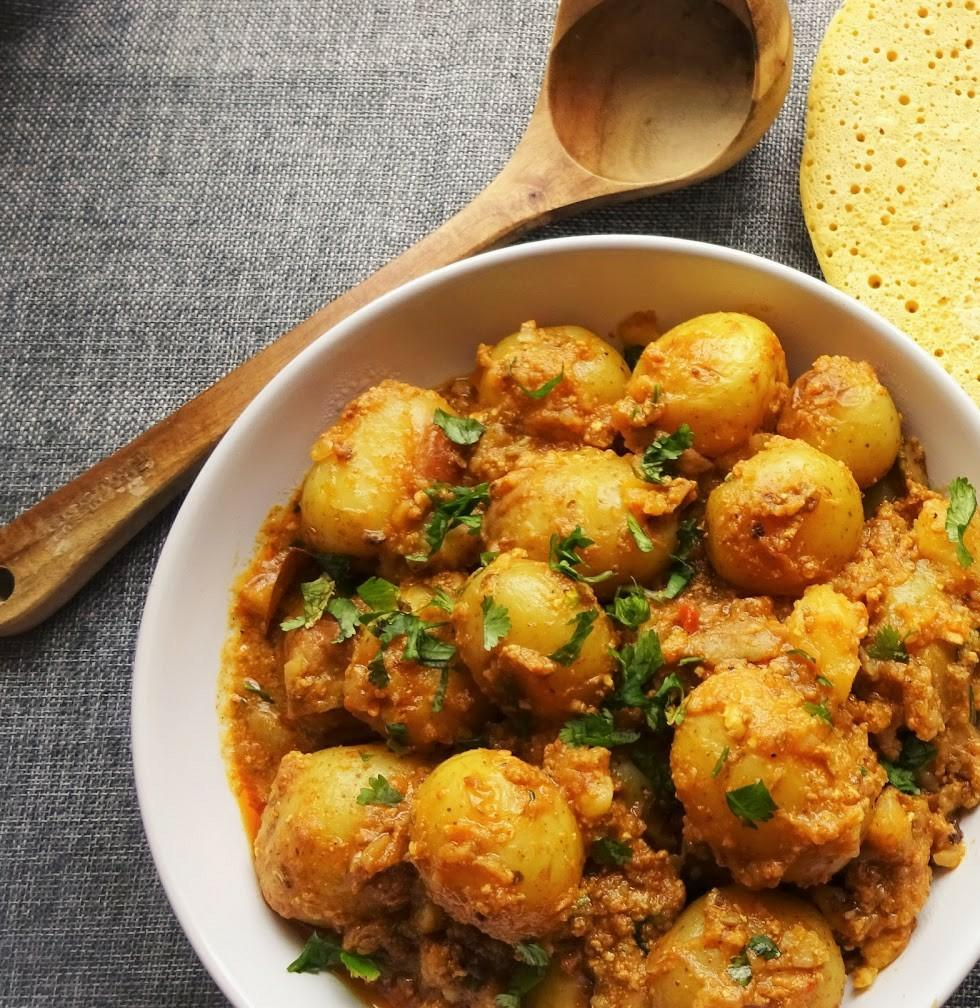DumAloo: (219, 312, 980, 1008)
